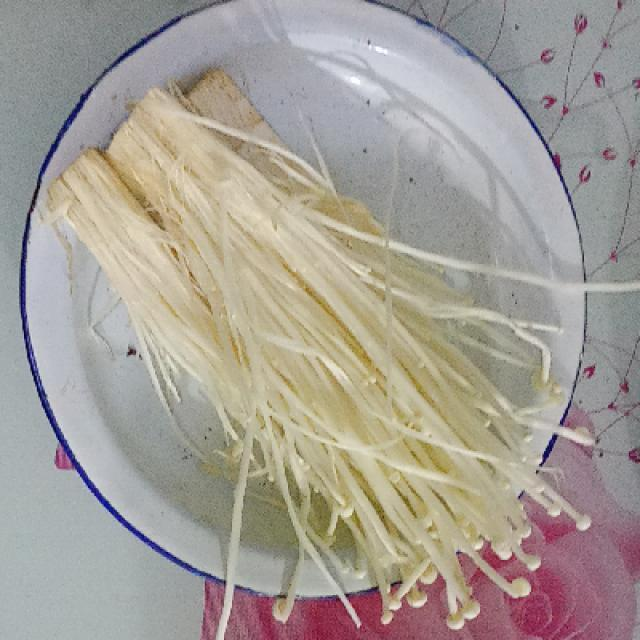Flammulina velutiper: (47, 63, 640, 631)
